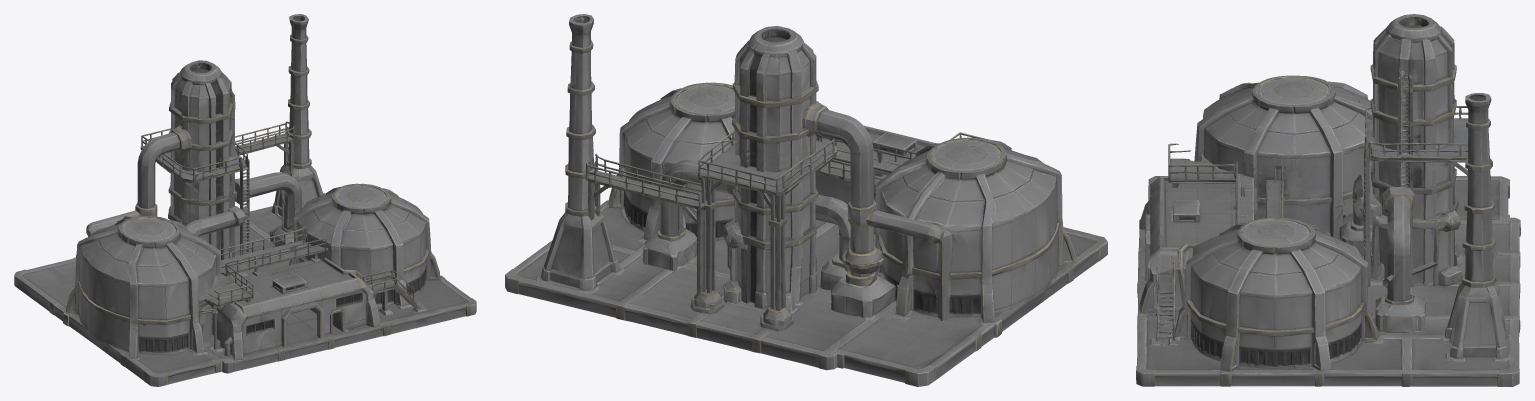
Rendered from imperial_fuel_refinery.glb.
3 renders of one model, left to right at view 1: azimuth 30°, elevation 25°; view 2: azimuth 150°, elevation 25°; view 3: azimuth 270°, elevation 25°, orthographic. The views are drawn at different scales.
Parts seen in each view (by area): view 1: mesh_node; view 2: mesh_node; view 3: mesh_node.
Part boxes in pixels (x1,y1,x2,y2): mesh_node: (14,14,476,386); mesh_node: (505,14,1107,386); mesh_node: (1136,14,1520,386).
Bounding box in the file's own units: 32 × 19.51 × 25.91.
1 material, 1 textured.
